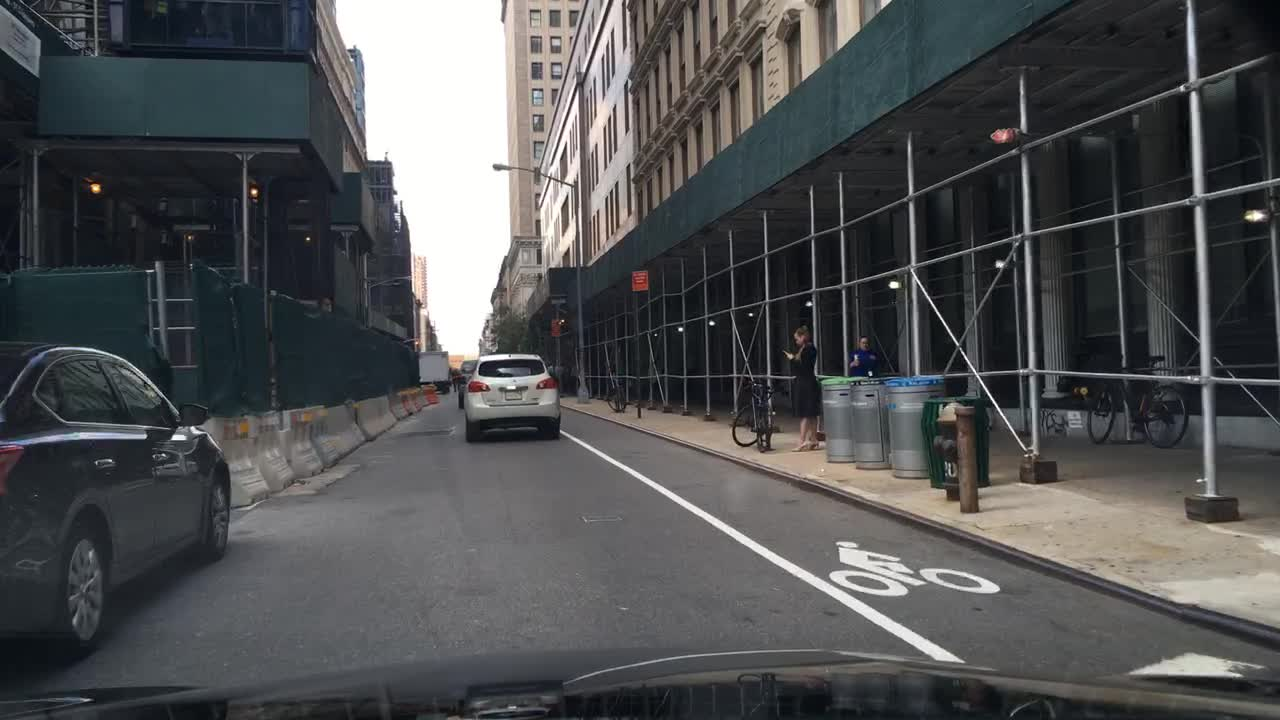bike: (1084, 352, 1188, 450), (729, 373, 784, 451), (604, 378, 635, 412)
car: (0, 336, 236, 658), (461, 351, 563, 443), (453, 357, 480, 408)
person: (780, 322, 824, 452), (845, 333, 881, 381), (555, 360, 568, 392), (565, 360, 577, 387), (451, 367, 459, 393), (544, 360, 555, 375)
traffic sign: (629, 267, 649, 290), (548, 319, 564, 338)
truck: (417, 347, 450, 392)
